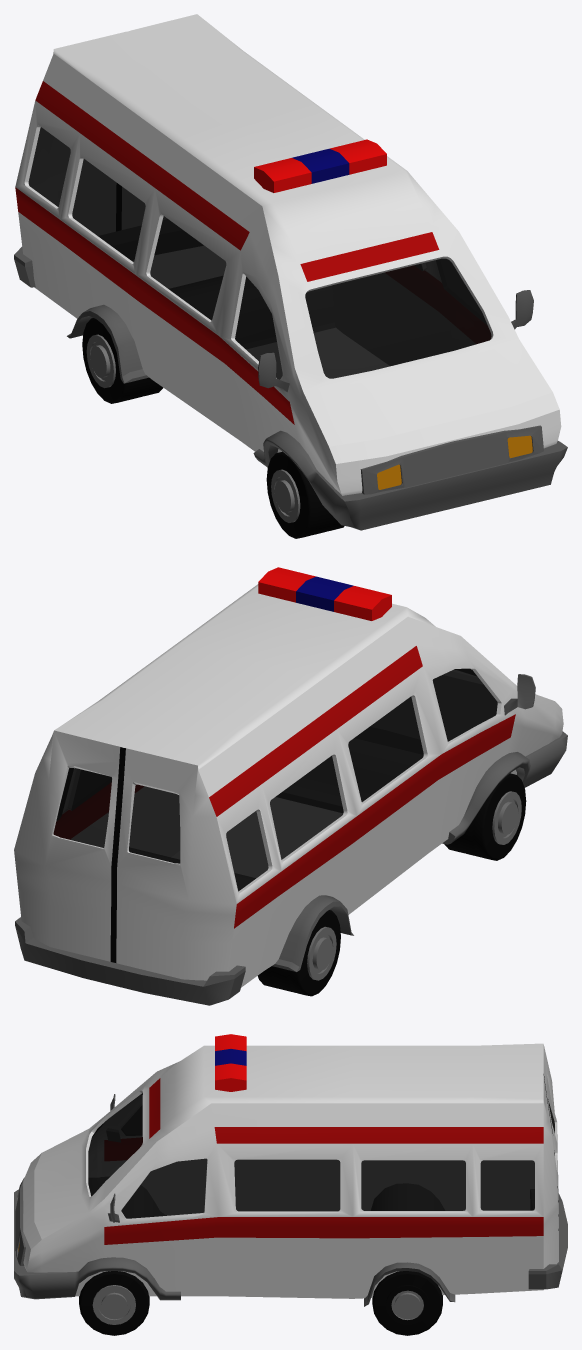
File: lowpoly_ambulance.fbx
3 views of the same model, one above another, from view 1: azimuth 30°, elevation 25°; view 2: azimuth 150°, elevation 25°; view 3: azimuth 270°, elevation 25° (orthographic). The views are drawn at different scales.
Visible parts, largest first — view 1: body, bumper1, tire_thing, front_grill, lights, wheel1, wheel2, back_bumper, mirror2; view 2: body, bumper1, back_bumper, front_grill, lights, wheel1, wheel2, tire_thing, mirror2; view 3: body, bumper1, wheel, wheel3, tire_thing, lights, back_bumper, front_grill.
Boxes of the visible parts, x1,y1,x2,y2 form: body: (15, 14, 561, 495); bumper1: (253, 430, 567, 530); tire_thing: (67, 276, 334, 383); front_grill: (360, 425, 543, 494); lights: (254, 139, 386, 192); wheel1: (266, 451, 344, 538); wheel2: (82, 318, 162, 403); back_bumper: (14, 219, 202, 287); mirror2: (258, 352, 289, 392); body: (14, 584, 563, 987); bumper1: (276, 731, 567, 844); back_bumper: (15, 917, 245, 1005); front_grill: (355, 676, 496, 753); lights: (258, 567, 391, 620); wheel1: (444, 773, 526, 860); wheel2: (258, 910, 340, 996); tire_thing: (129, 848, 353, 971); mirror2: (504, 674, 535, 715); body: (22, 1043, 558, 1298); bumper1: (14, 1185, 180, 1300); wheel: (79, 1271, 149, 1335); wheel3: (372, 1271, 442, 1335); tire_thing: (364, 1184, 455, 1306); lights: (215, 1034, 246, 1091); back_bumper: (528, 1189, 567, 1289); front_grill: (15, 1177, 133, 1265).
Size of the model in its own units: 2.06 by 2.14 by 4.52.
